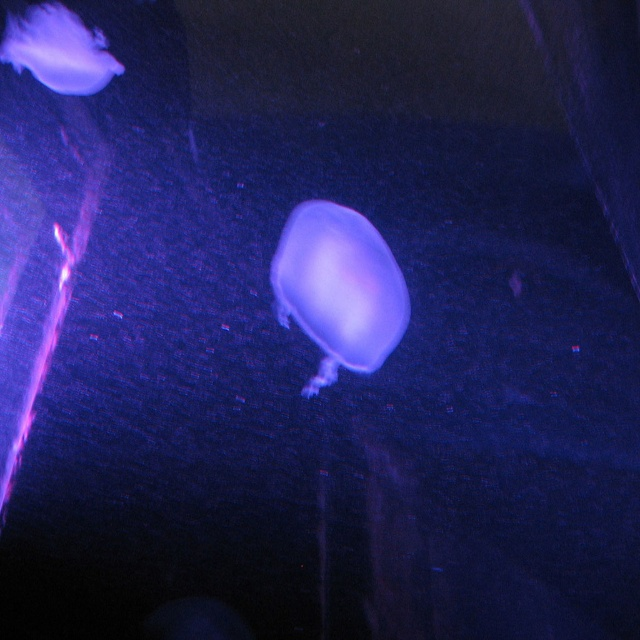Jellyfish: (266, 201, 412, 400), (0, 3, 123, 92)
